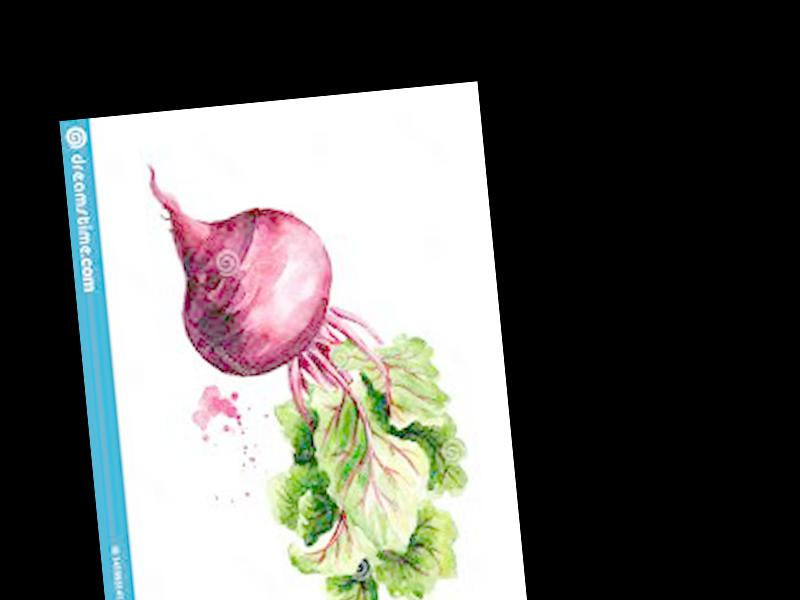Beet: (147, 140, 482, 600)
